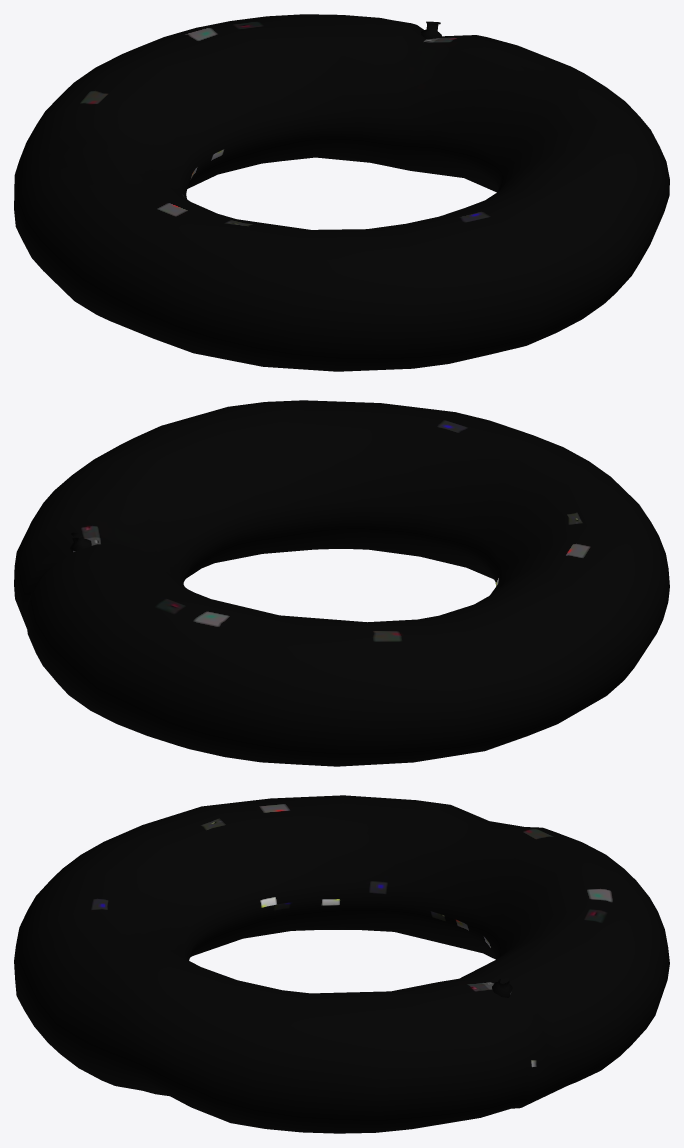
The model's file is innertube.worldmodel.glb.
3 views of the same model, one above another, from view 1: azimuth 30°, elevation 25°; view 2: azimuth 150°, elevation 25°; view 3: azimuth 270°, elevation 25° (orthographic). The views are drawn at different scales.
Parts seen in each view (by area): view 1: inner_tube_LOD0; view 2: inner_tube_LOD0; view 3: inner_tube_LOD0.
Part boxes in pixels (bbox=[...]): inner_tube_LOD0: bbox=[14, 14, 669, 371]; inner_tube_LOD0: bbox=[14, 400, 669, 766]; inner_tube_LOD0: bbox=[14, 795, 669, 1133].
Size of the model in its own units: 0.9292 by 0.2074 by 0.9591.
Materials: 1 (1 with a texture image).
